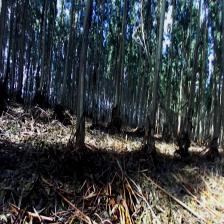trunk: (145, 12, 166, 152), (75, 9, 93, 152), (182, 54, 199, 154)
